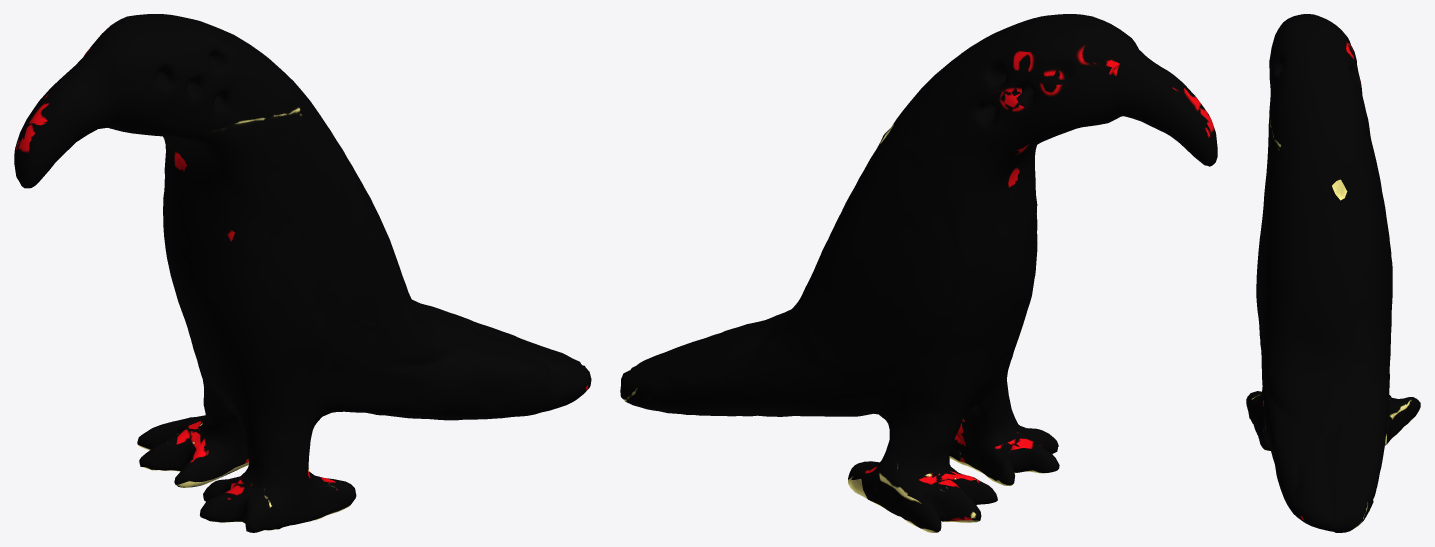
File: bird.glb
3 renders of one model, left to right at view 1: azimuth 30°, elevation 25°; view 2: azimuth 150°, elevation 25°; view 3: azimuth 270°, elevation 25°, orthographic. The views are drawn at different scales.
Visible parts, largest first — view 1: low_poly_bird; view 2: low_poly_bird; view 3: low_poly_bird.
Part boxes in pixels (box(x1,y1,x2,y2)): low_poly_bird: box(14, 14, 591, 532); low_poly_bird: box(620, 14, 1217, 532); low_poly_bird: box(1246, 14, 1420, 532).
Bounding box in the file's own units: 161 × 131 × 56.5.
2 materials, 2 textured.
